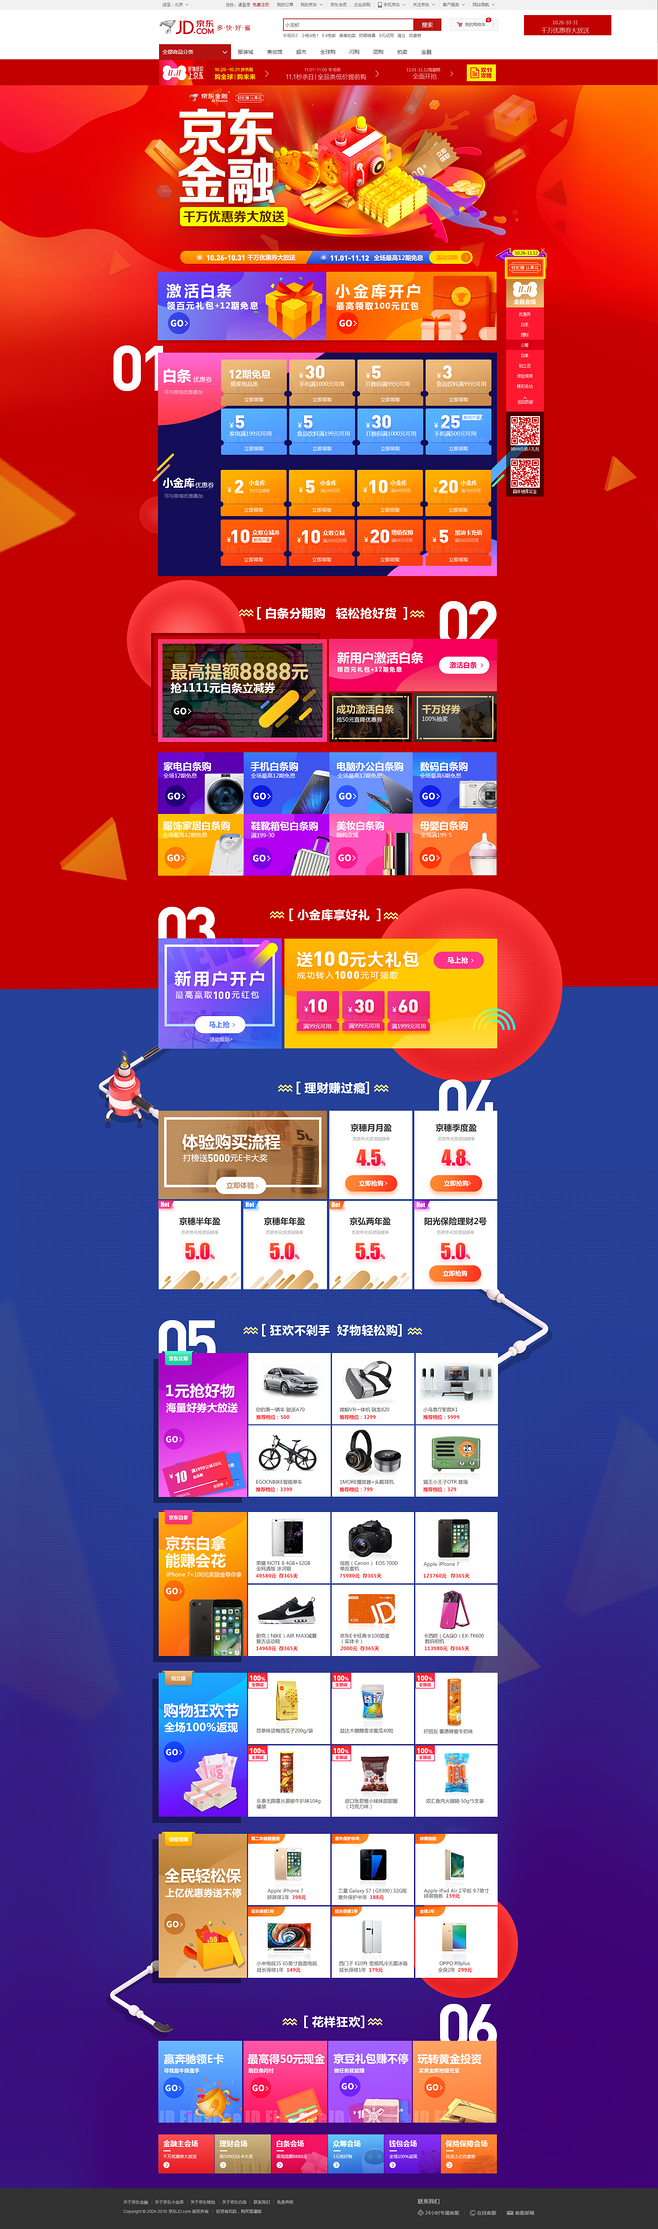floors: (105, 1316, 507, 1984), (102, 598, 505, 879), (102, 345, 502, 581), (104, 1076, 507, 1296), (104, 896, 506, 1053), (101, 269, 502, 343)
toutu: (1, 85, 658, 267)
